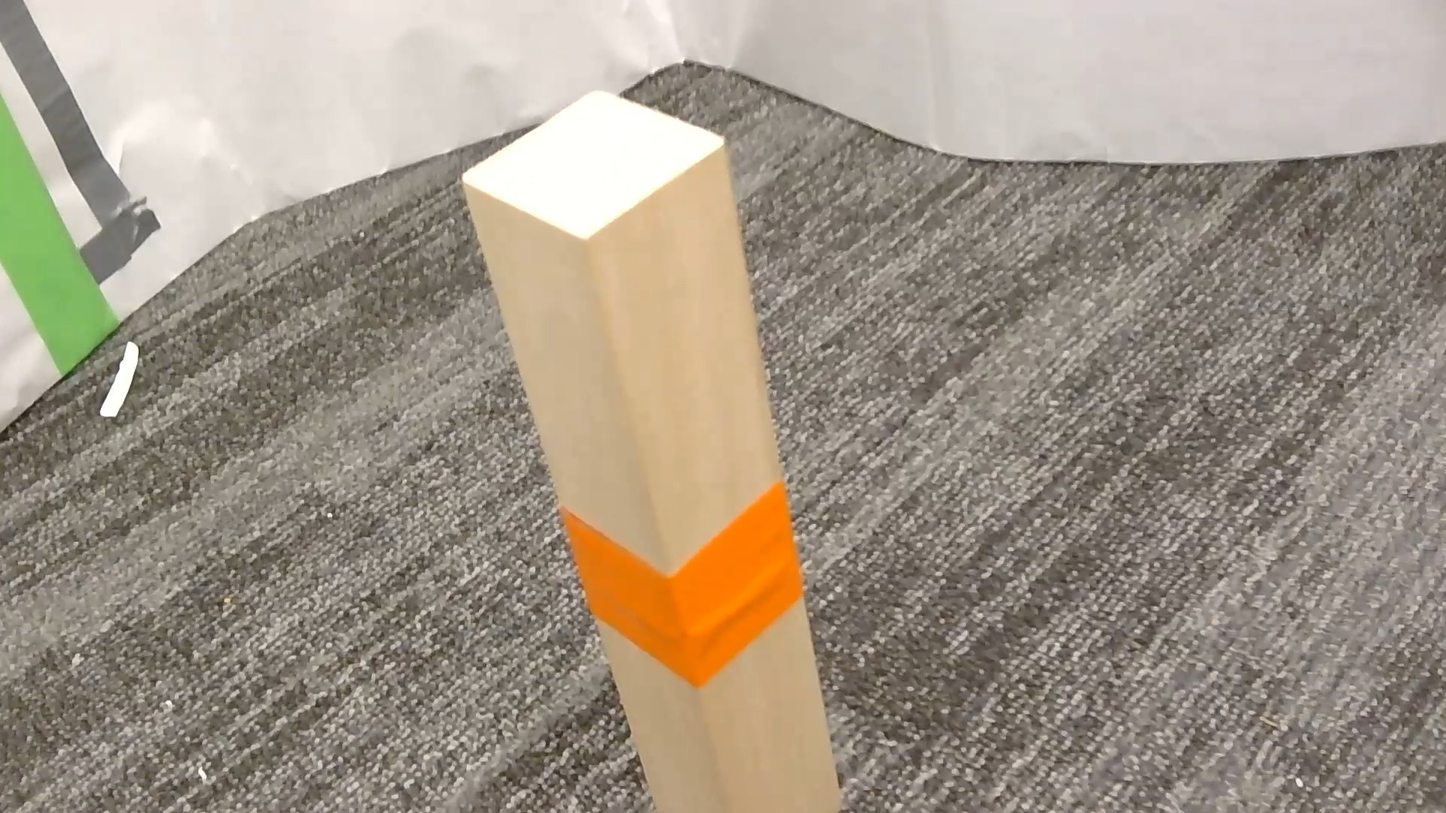Wooden Block: (463, 92, 839, 812)
